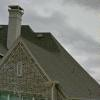Chimney: (3, 2, 27, 48)
